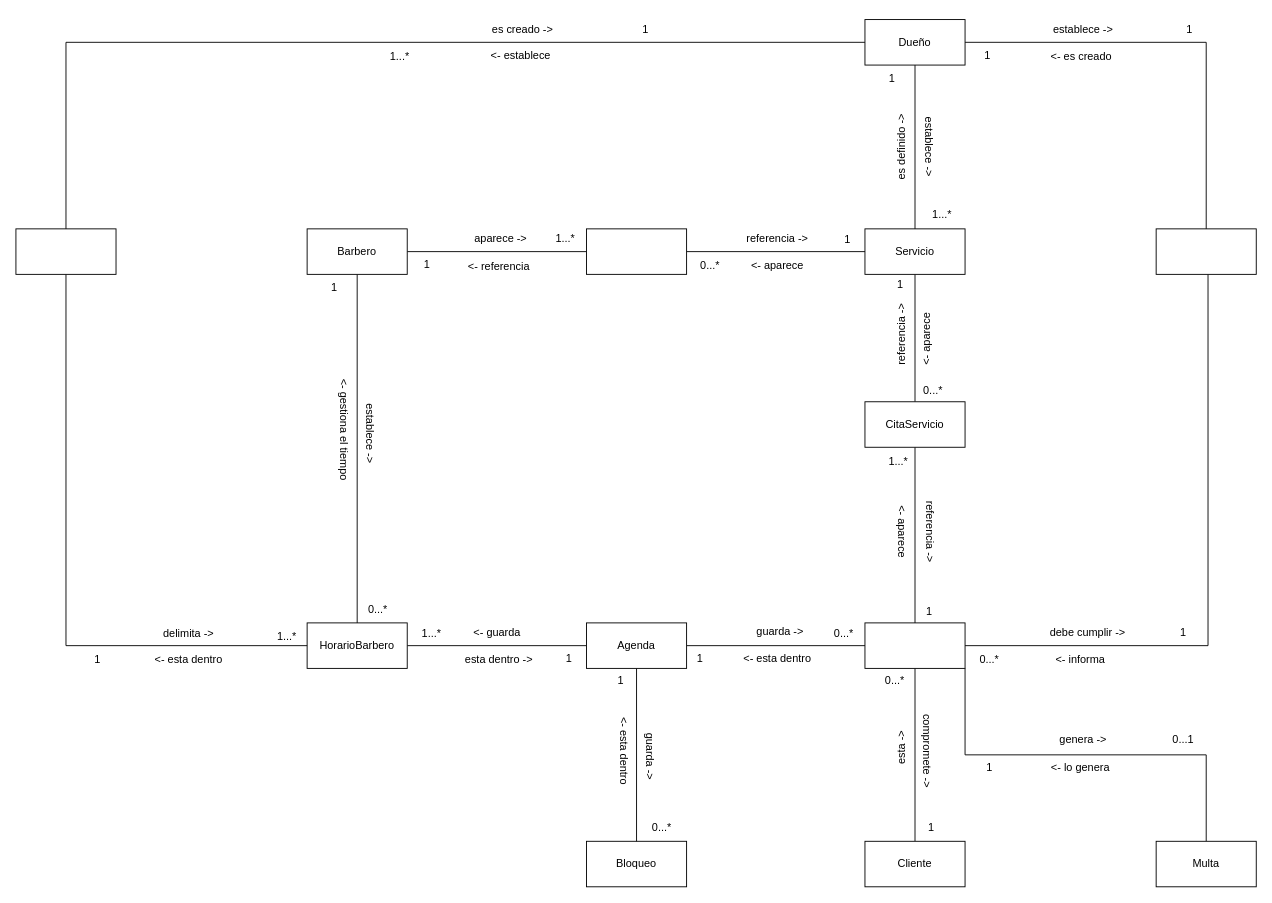
This 1272x903 diagram has some shape labels left out. The shapes that lost their labels are listed below. From the top down, each one's box as (x1, y1, x2, y2) in pixels, then its label:
(15, 228, 116, 274): HorarioBarberia
(586, 228, 687, 274): BarberoServicio
(1155, 228, 1256, 274): Regla
(864, 622, 965, 668): Cita
